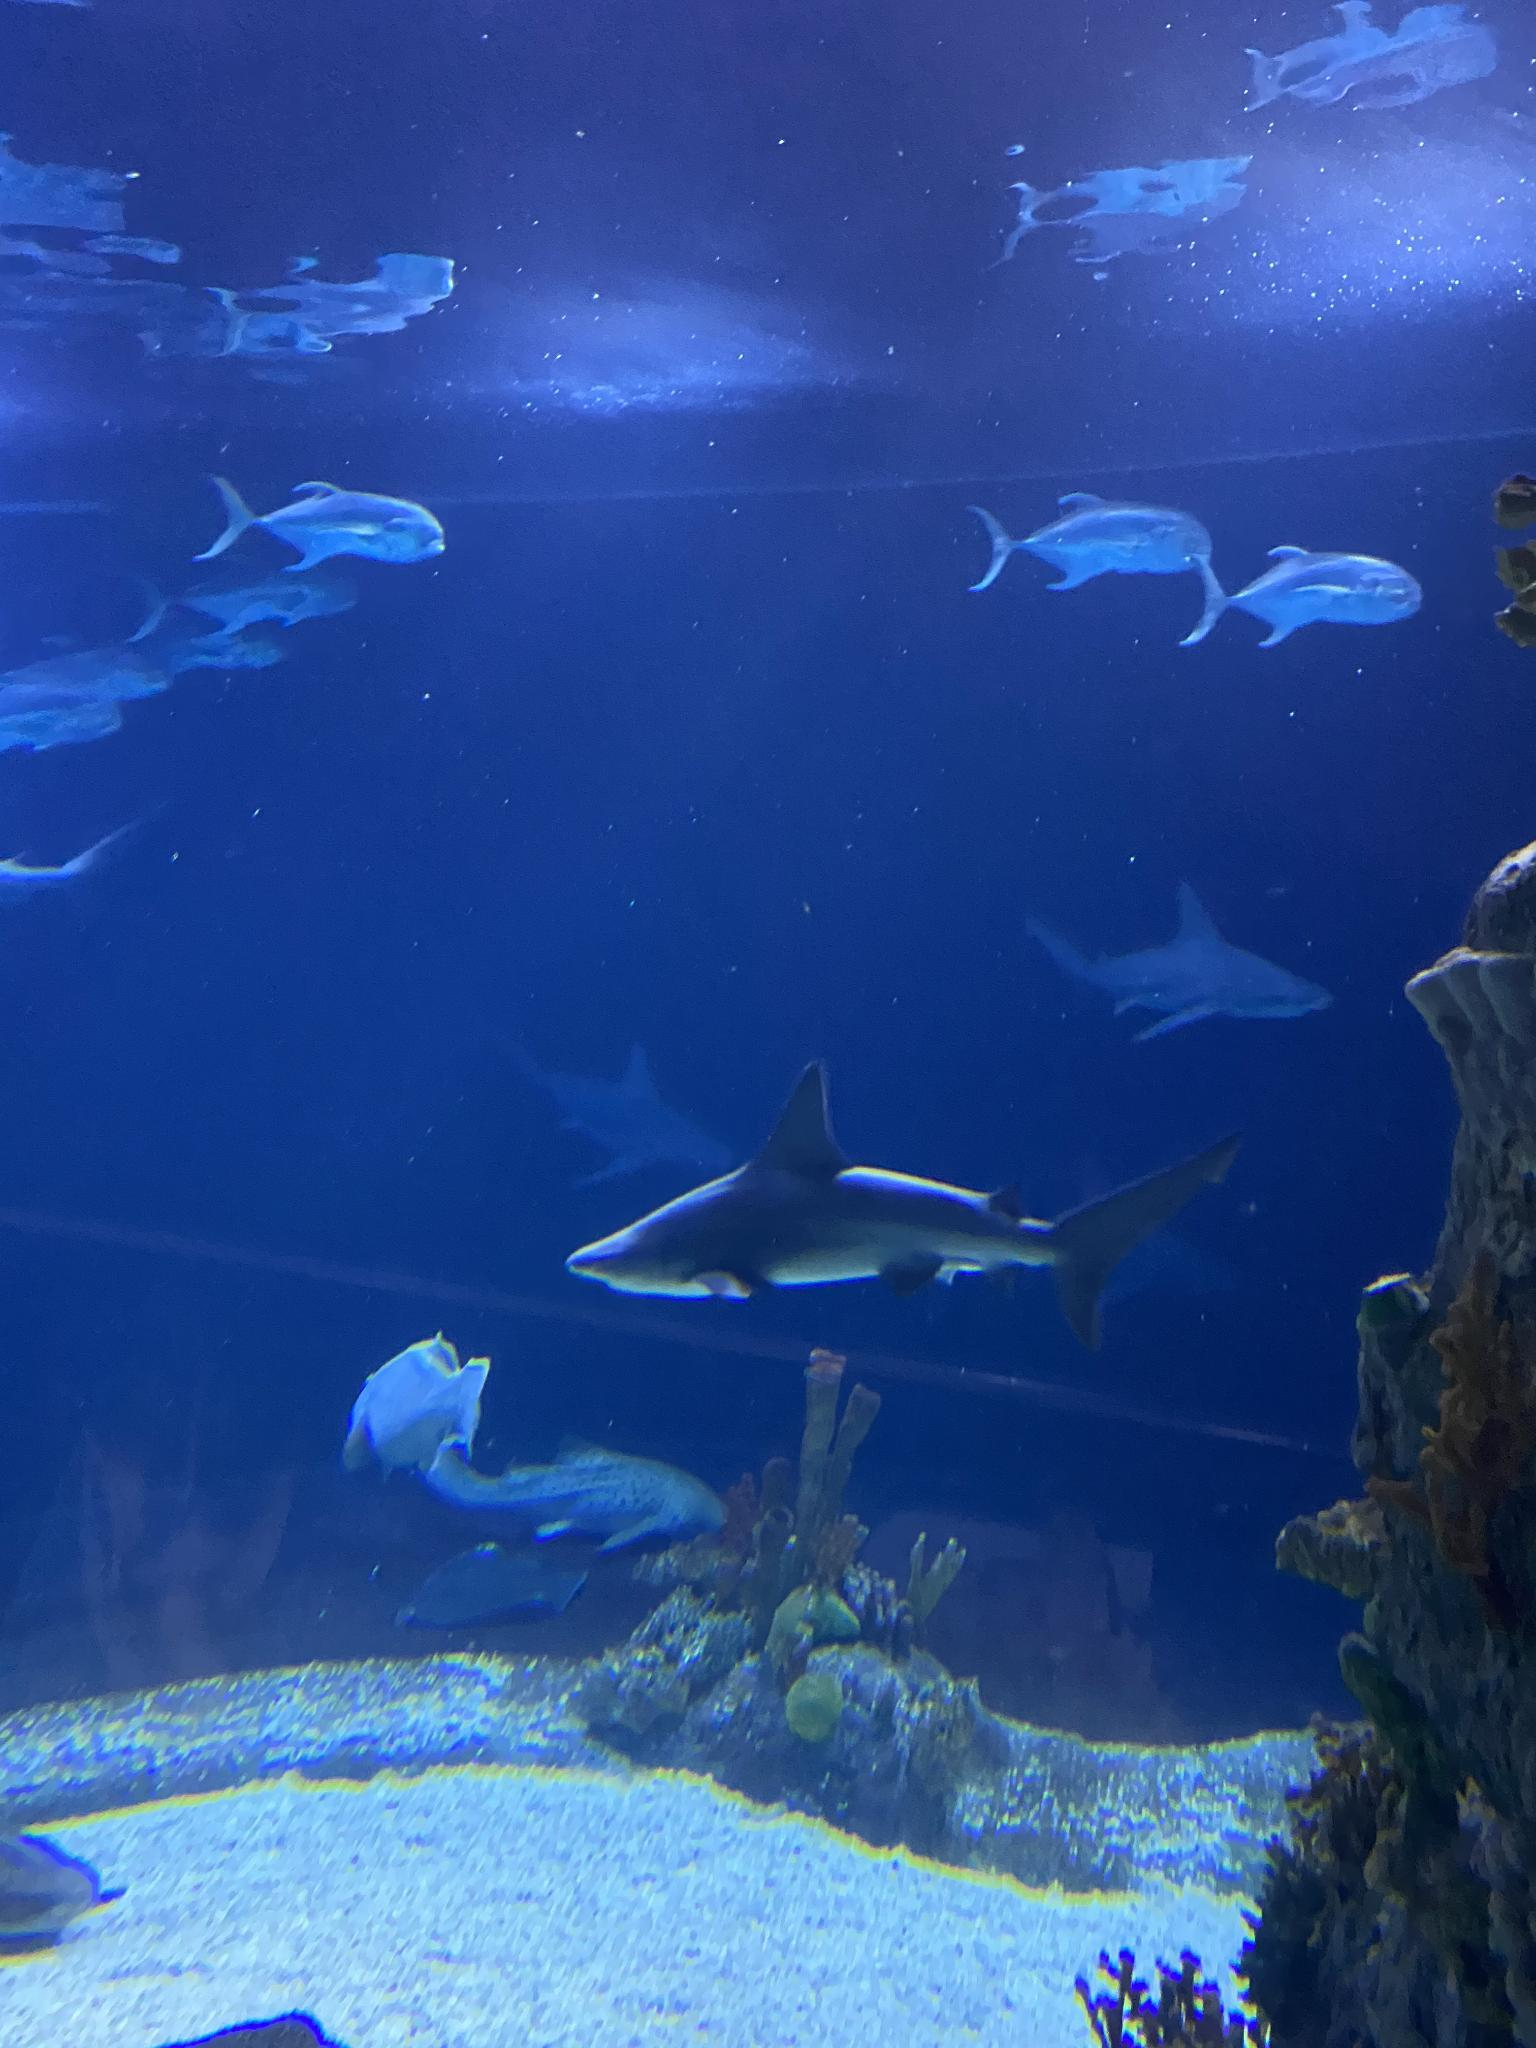fish: (424, 1434, 736, 1563), (1179, 545, 1421, 648), (189, 476, 447, 572), (965, 492, 1213, 592), (344, 1330, 487, 1485), (118, 556, 357, 647)
shark: (568, 1053, 1257, 1361), (1016, 877, 1329, 1043), (0, 801, 153, 927)
